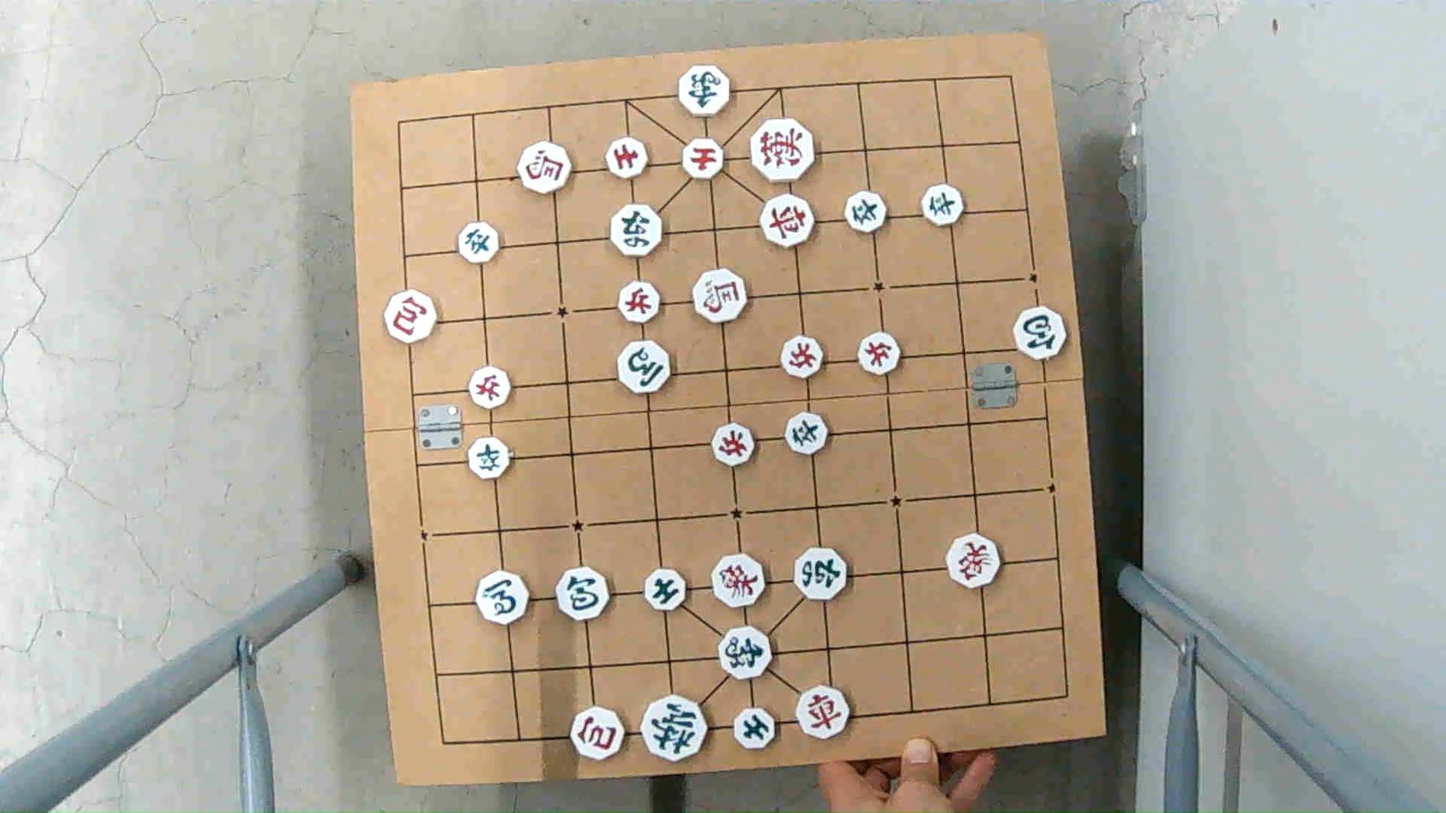cha_green: (793, 550, 850, 600), (607, 206, 664, 255)
cha_red: (793, 688, 850, 738), (759, 197, 814, 245)
jol_green: (782, 413, 829, 453), (466, 438, 512, 477), (846, 194, 889, 233), (458, 223, 502, 260), (923, 187, 966, 223)
jol_red: (856, 331, 902, 375), (779, 336, 827, 378), (711, 426, 757, 465), (468, 370, 514, 409), (620, 282, 665, 321)
ma_green: (615, 340, 670, 391), (474, 573, 529, 622)
ma_red: (514, 142, 579, 196), (694, 271, 750, 320)
po_green: (554, 569, 615, 623), (1010, 305, 1066, 360)
po_red: (382, 293, 440, 343), (571, 711, 628, 758)
sa_green: (642, 573, 688, 613), (734, 710, 779, 749)
sa_red: (676, 142, 723, 181), (605, 139, 649, 178)
sang_green: (716, 630, 773, 680), (677, 68, 734, 117)
sang_red: (709, 556, 767, 605), (947, 537, 1002, 588)
wang_green: (639, 696, 709, 760)
wang_red: (748, 121, 815, 180)
